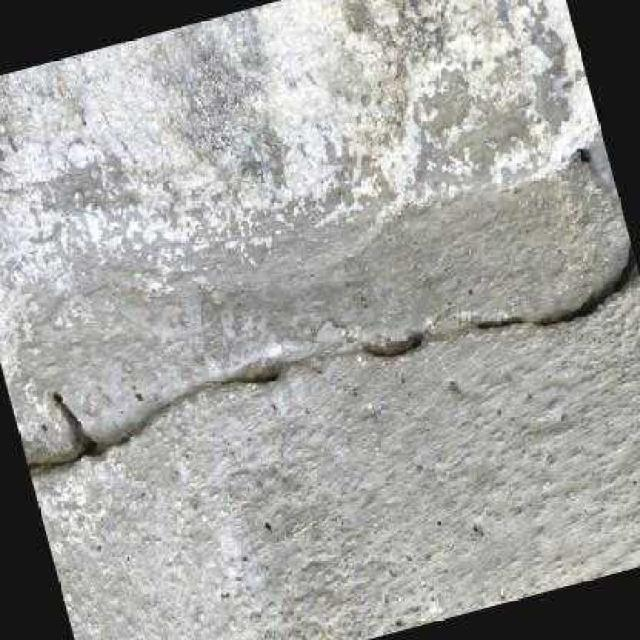D00: (26, 238, 639, 474)
